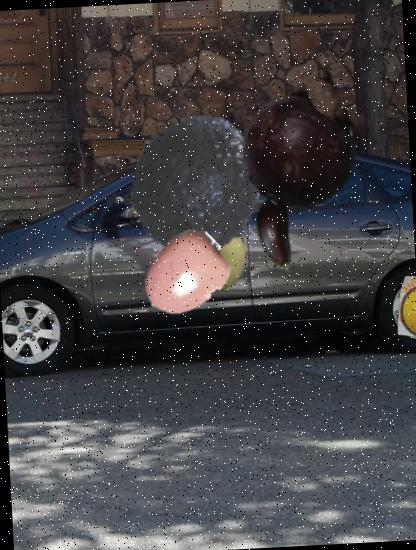Avocado: (117, 105, 268, 257)
Eggplant: (232, 192, 315, 274)
Kaki: (138, 226, 234, 323)
Mangostan: (232, 63, 384, 215)
Peach: (167, 214, 249, 296)
